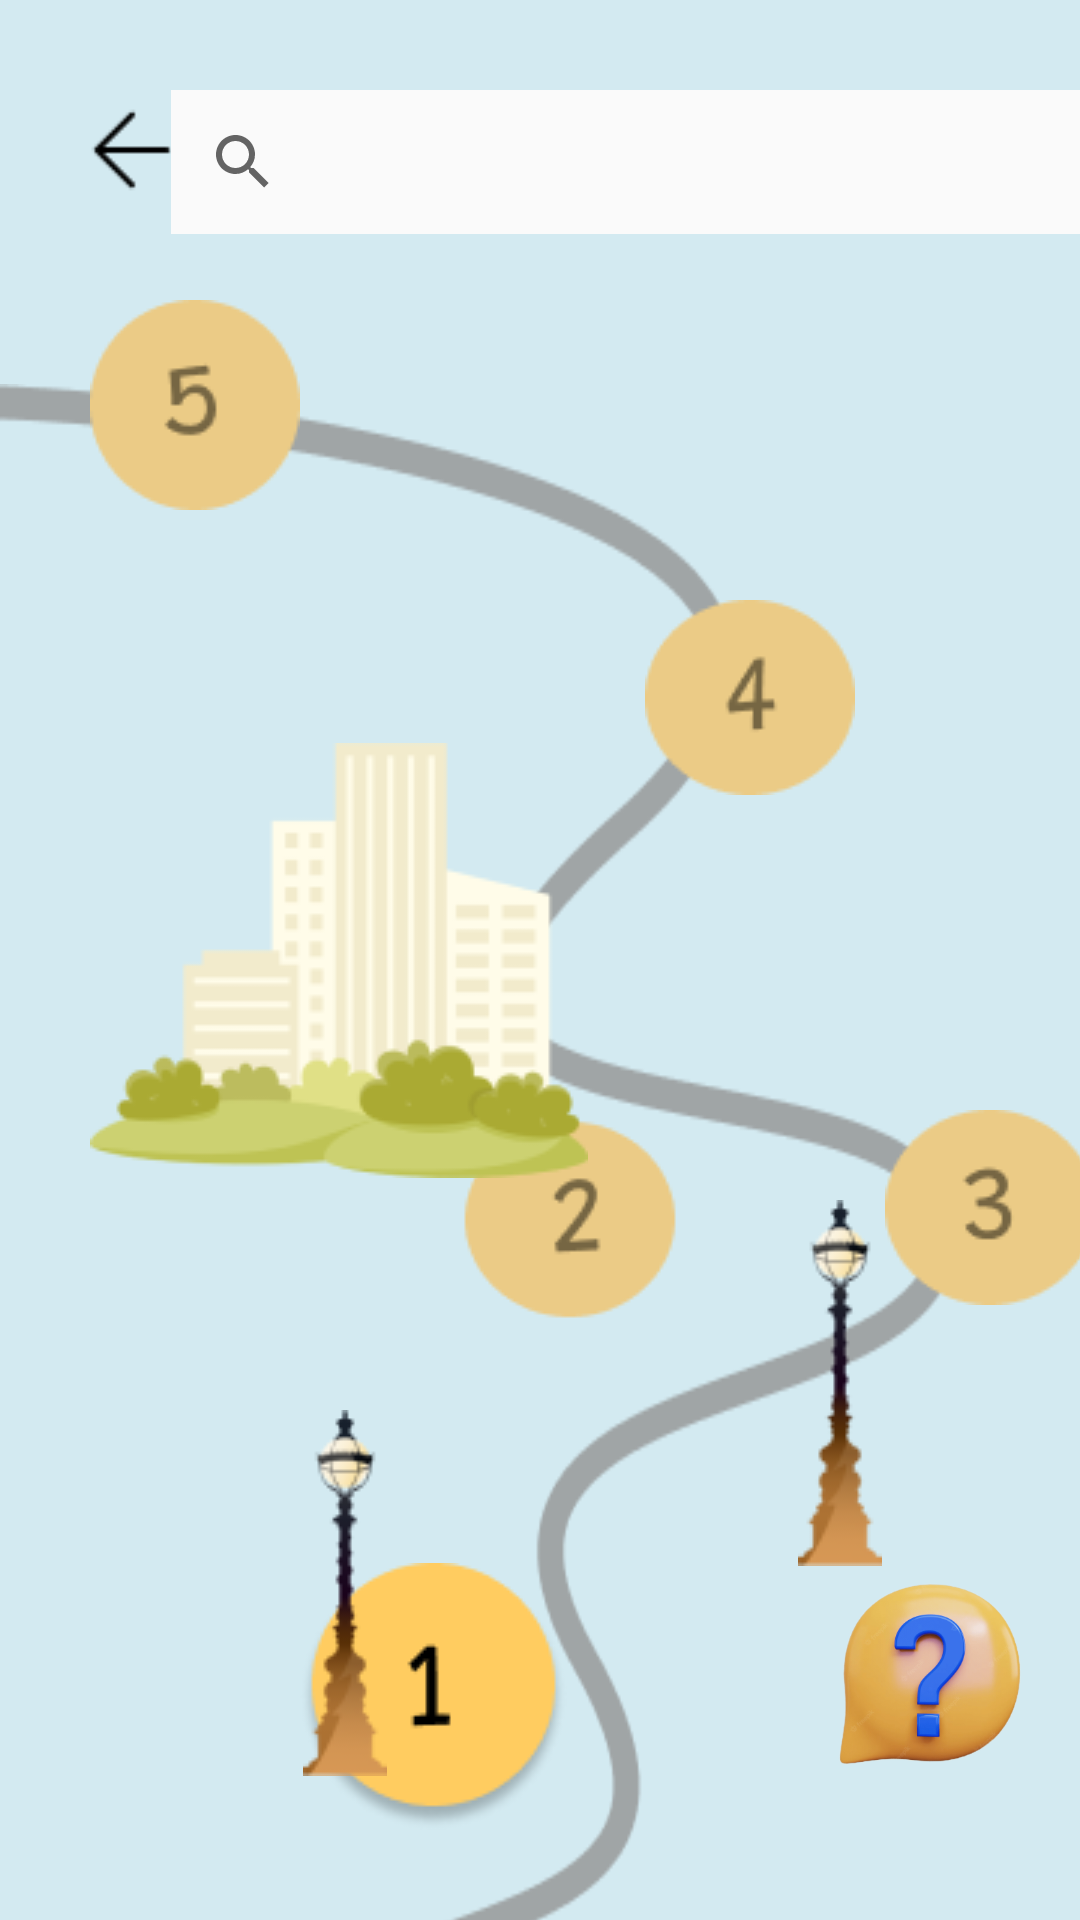

Screen size 1080 x 1920. Icon name, then its box in pixels as bbox=(x1, y1, x2, y2):
help: bbox=(840, 1584, 1020, 1764)
